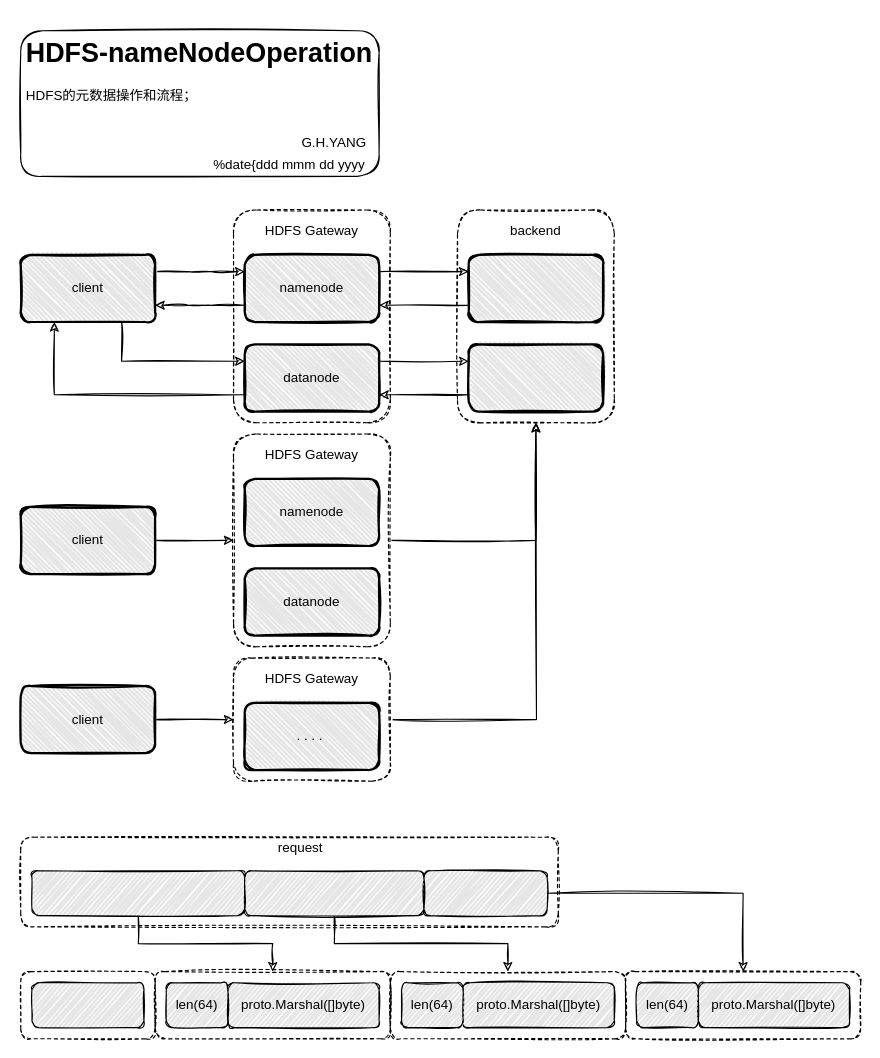
Image size: 880x1058. Some labels were removed from this diagram. Each missing label, with the centre of its shape:
"ceph cluster" goes at [535,377].
"meta cluster" goes at [535,288].
"newRPCRequestHeader" goes at [138,893].
"req" goes at [485,893].
"RequestHeaderProto" goes at [334,893].
"total_len(64)" goes at [87,1005].
